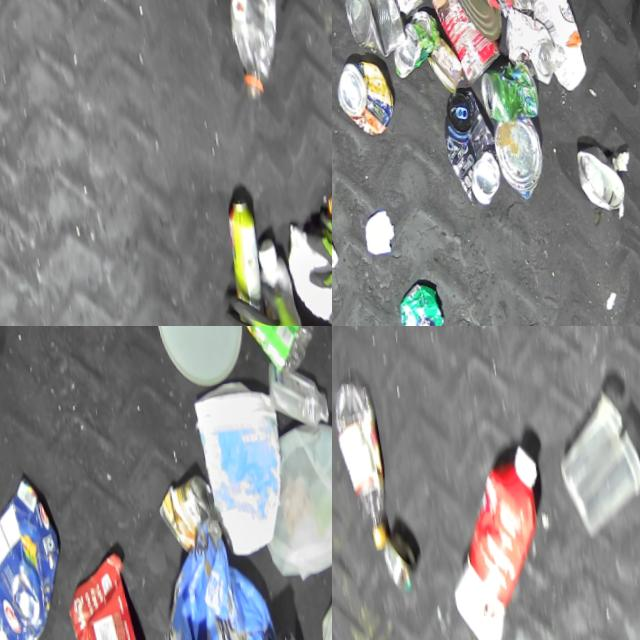can: (437, 89, 505, 213), (426, 0, 504, 90), (152, 473, 222, 559), (332, 57, 398, 142), (499, 5, 559, 94), (490, 119, 548, 207), (337, 0, 410, 64), (476, 62, 539, 130), (573, 147, 627, 223), (387, 10, 444, 81), (442, 0, 504, 47), (377, 530, 419, 596), (423, 37, 466, 99), (393, 281, 450, 326), (371, 0, 433, 20)
milk_jug: (246, 416, 332, 590)
plastic_bottle: (332, 376, 394, 555), (212, 0, 295, 113), (198, 326, 324, 389)
